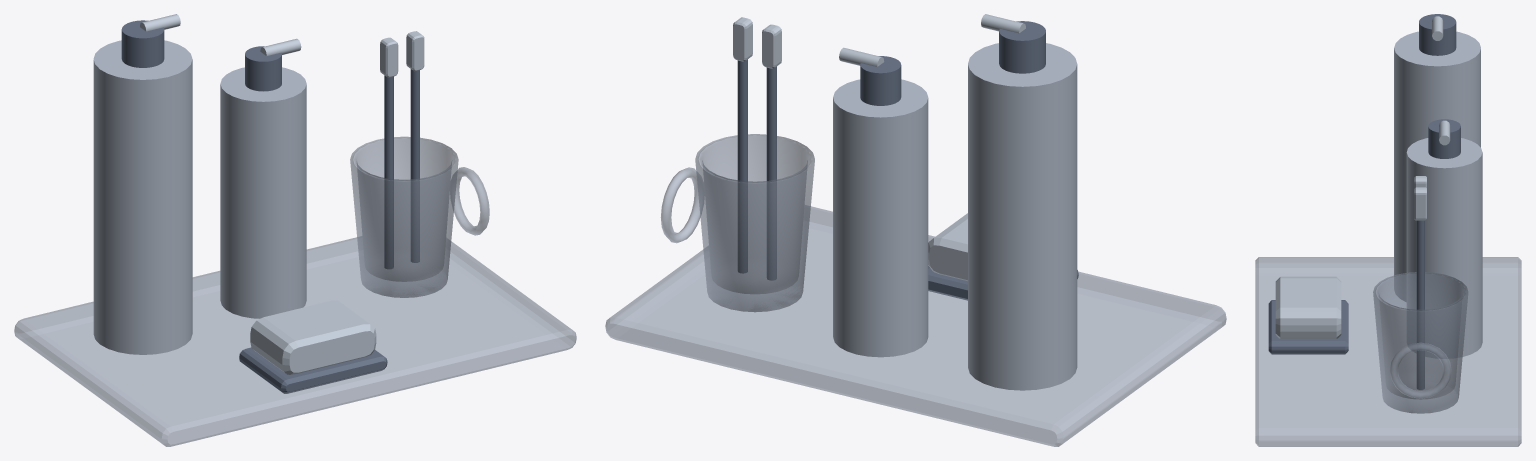
The model's file is toiletry-set-lite.glb.
The picture shows the model from 3 angles, left to right: view 1: azimuth 30°, elevation 25°; view 2: azimuth 150°, elevation 25°; view 3: azimuth 270°, elevation 25°; orthographic projection. The views are drawn at different scales.
Parts seen in each view (by area): view 1: body, soft, dark, light; view 2: body, soft, dark, light; view 3: body, soft, dark, light.
Boxes of the visible parts, x1,y1,x2,y2 form: body: [14, 136, 576, 446]; soft: [93, 40, 306, 354]; dark: [121, 20, 419, 393]; light: [140, 14, 424, 374]; body: [605, 134, 1226, 446]; soft: [833, 43, 1077, 390]; dark: [737, 21, 1078, 300]; light: [733, 14, 1025, 281]; body: [1255, 257, 1521, 446]; soft: [1394, 31, 1482, 357]; dark: [1268, 14, 1460, 389]; light: [1275, 16, 1450, 338].
Bounding box in the file's own units: 0.3 × 0.2288 × 0.19.
